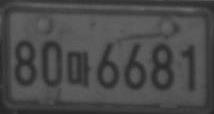0: (41, 40, 63, 88)
1: (178, 44, 202, 91)
6: (96, 42, 120, 89), (123, 44, 148, 89)
8: (151, 43, 175, 90), (13, 40, 36, 86)
마: (66, 50, 91, 88)
